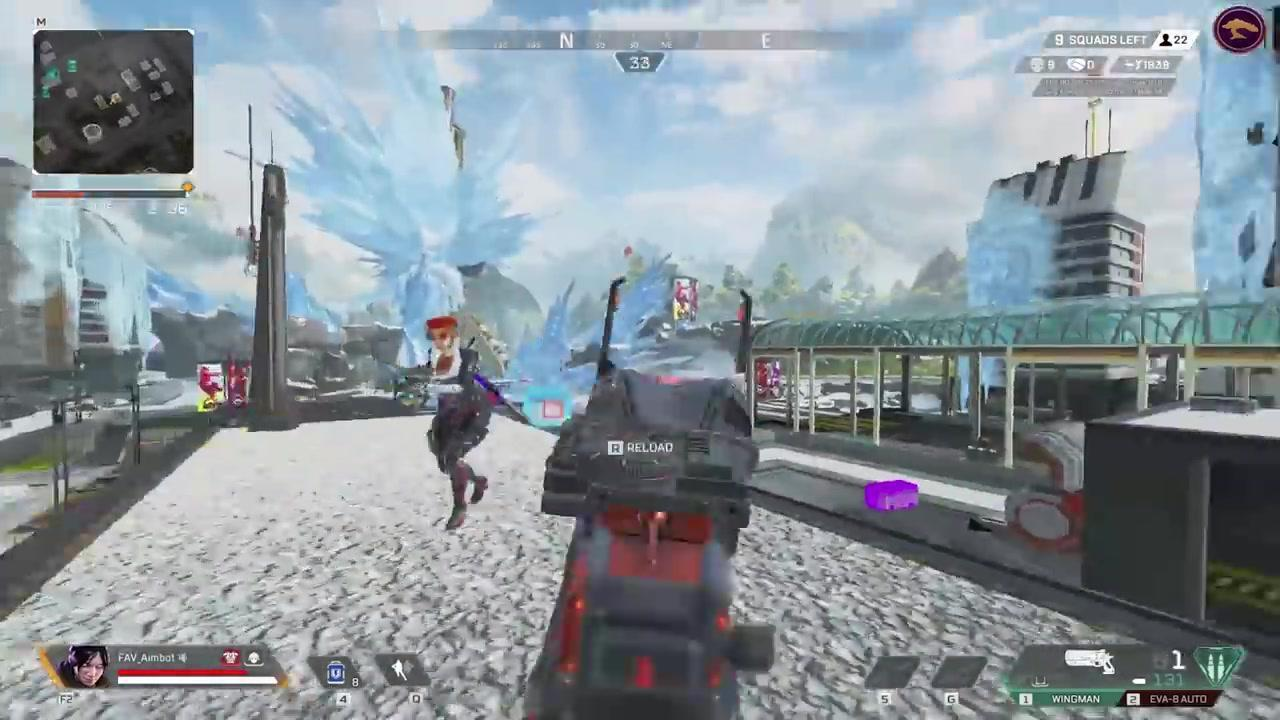avatar: (422, 314, 499, 534)
